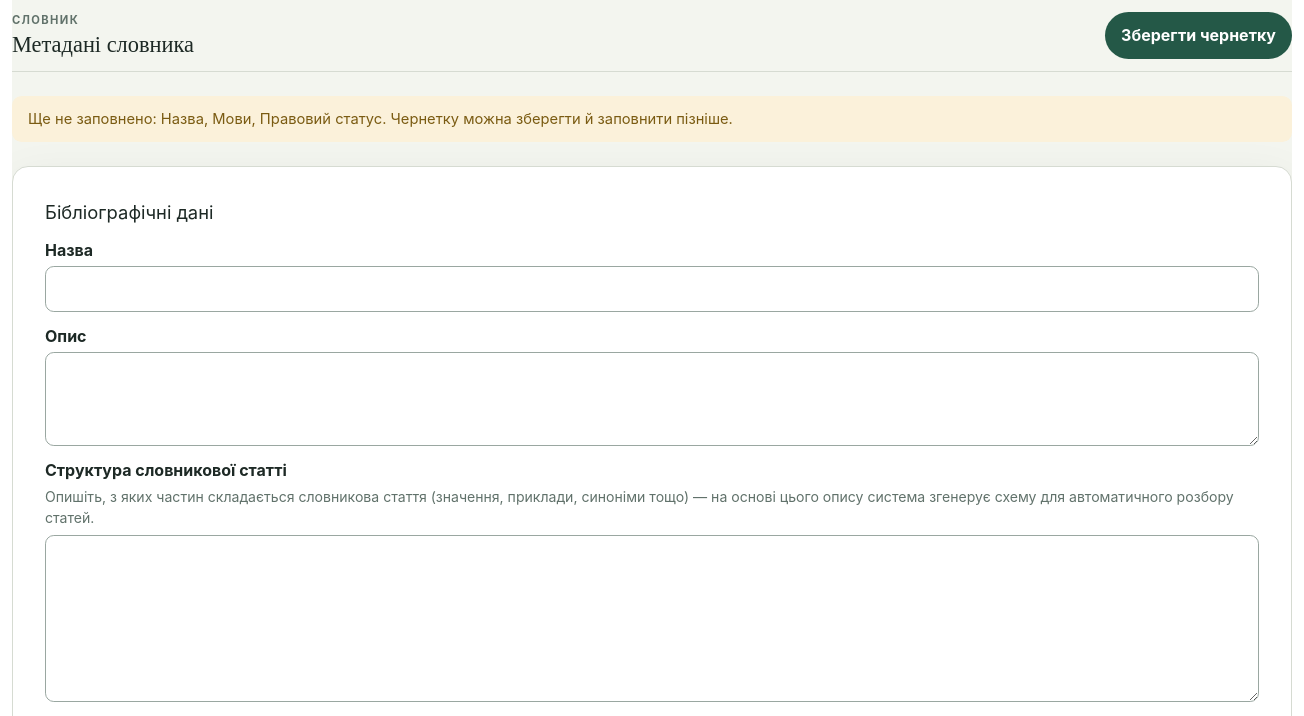
DictionaryMetadataForm › saves the draft and reflects the server's missing-field list
The image size is (1304, 716).
Type "Словник" into the field labelled "Назва".
click(652, 289); type("Словник")  # box [45, 266, 1259, 312]
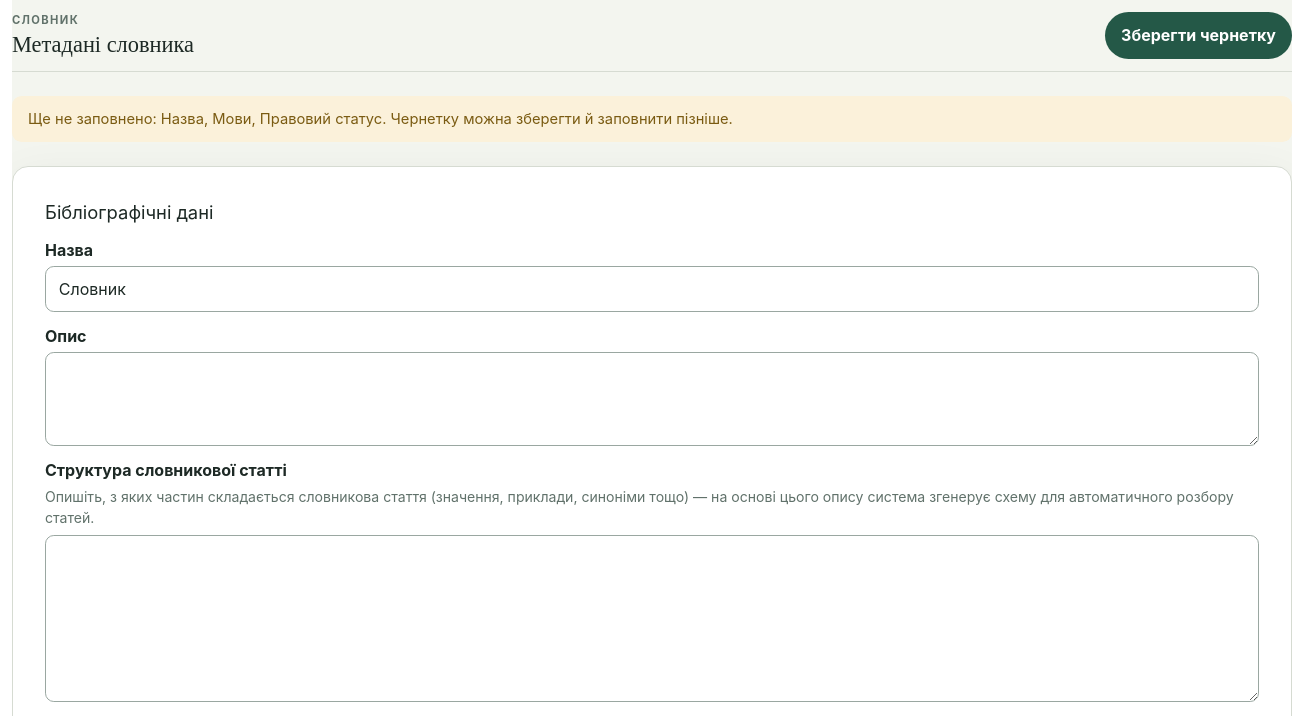
Click the button "Зберегти чернетку".
click(1199, 35)  # box [1105, 12, 1292, 59]
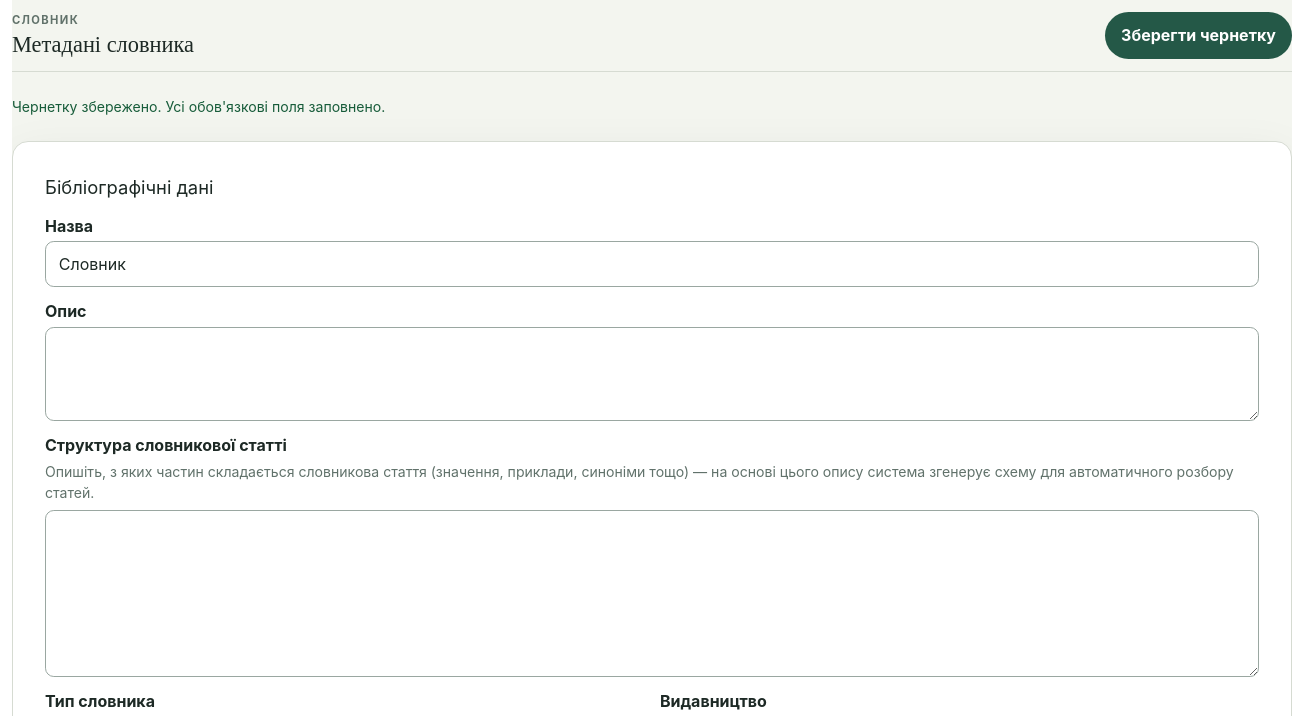
Expected: the message shows "Усі обов'язкові поля", [12, 98, 385, 115]
Expected: the text "Ще не заповнено" is gone
